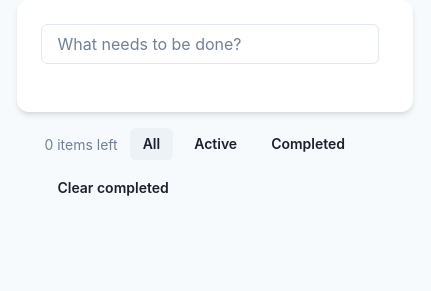
Scenario: App integration › фильтрует задачи
Type "Active task" into the field with placeholder "What needs to be done?" at (210, 44), box [41,24,379,64]
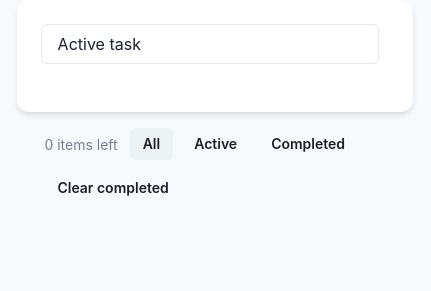
Press Enter in the field with placeholder "What needs to be done?", box [41,24,379,64]
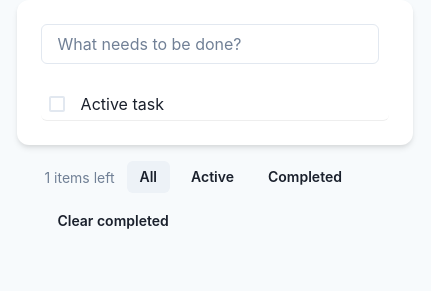
Type "Completed task" into the field with placeholder "What needs to be done?" at (210, 44), box [41,24,379,64]
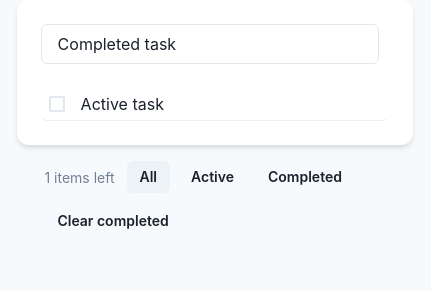
Press Enter in the field with placeholder "What needs to be done?", box [41,24,379,64]
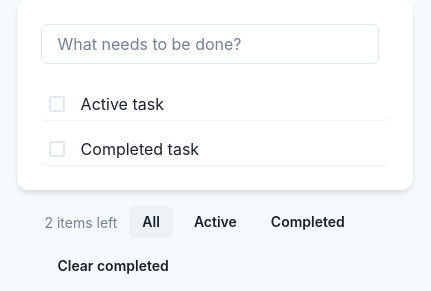
Click the checkbox labelled "Completed task" at (124, 149), box [49,137,199,161]
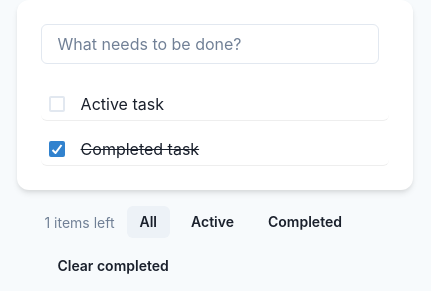
Click the button "Active" at (212, 222), box [178,206,247,238]
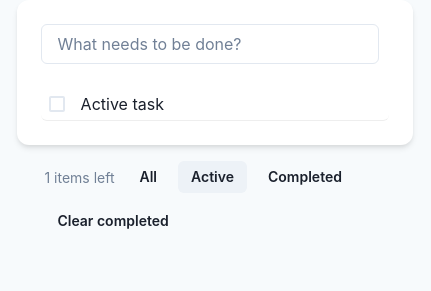
Check: the text "Active task" is shown, box [81,92,164,116]
Check: the text "Completed task" is gone
